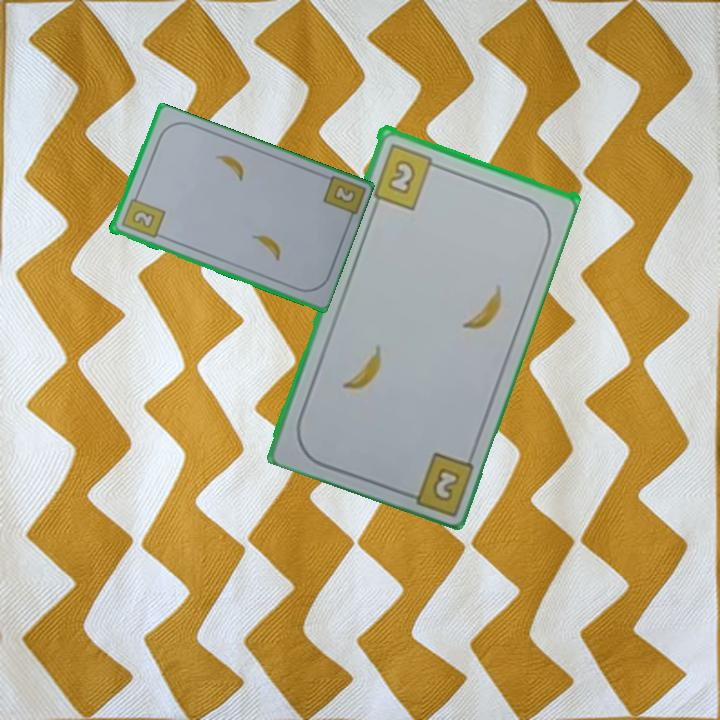2b: (369, 139, 444, 212), (118, 190, 167, 241), (428, 463, 463, 504), (329, 181, 356, 204)
